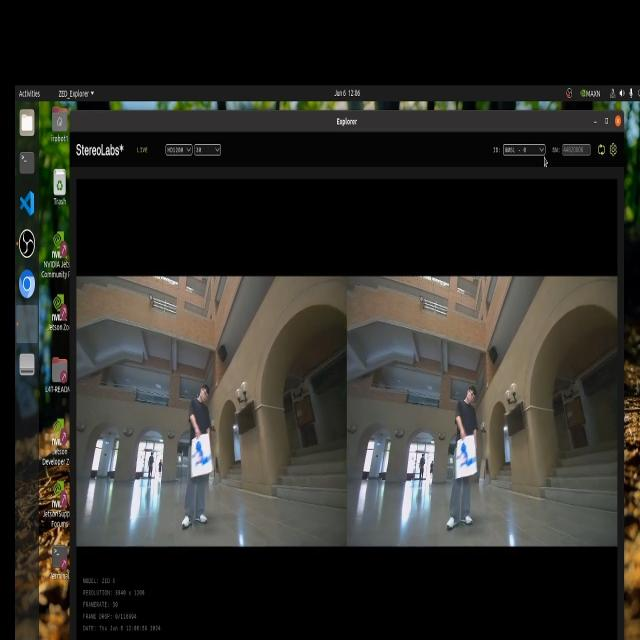blue: (448, 436, 481, 478), (188, 432, 214, 474)
